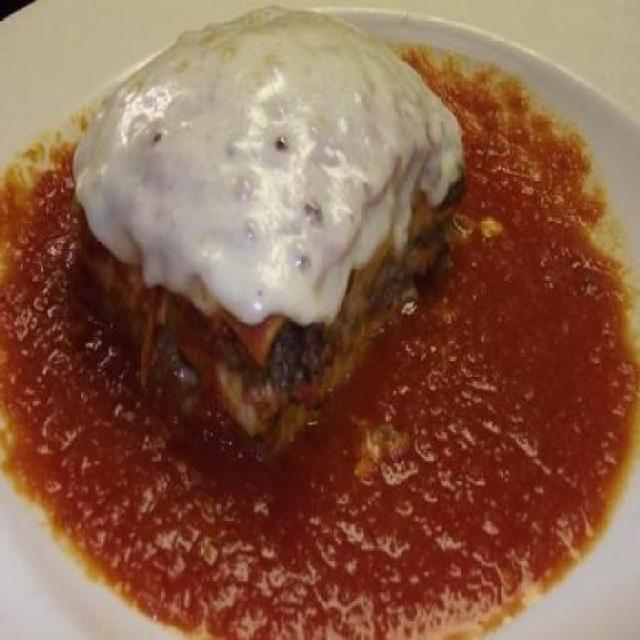Lasagna: (56, 12, 550, 518)
